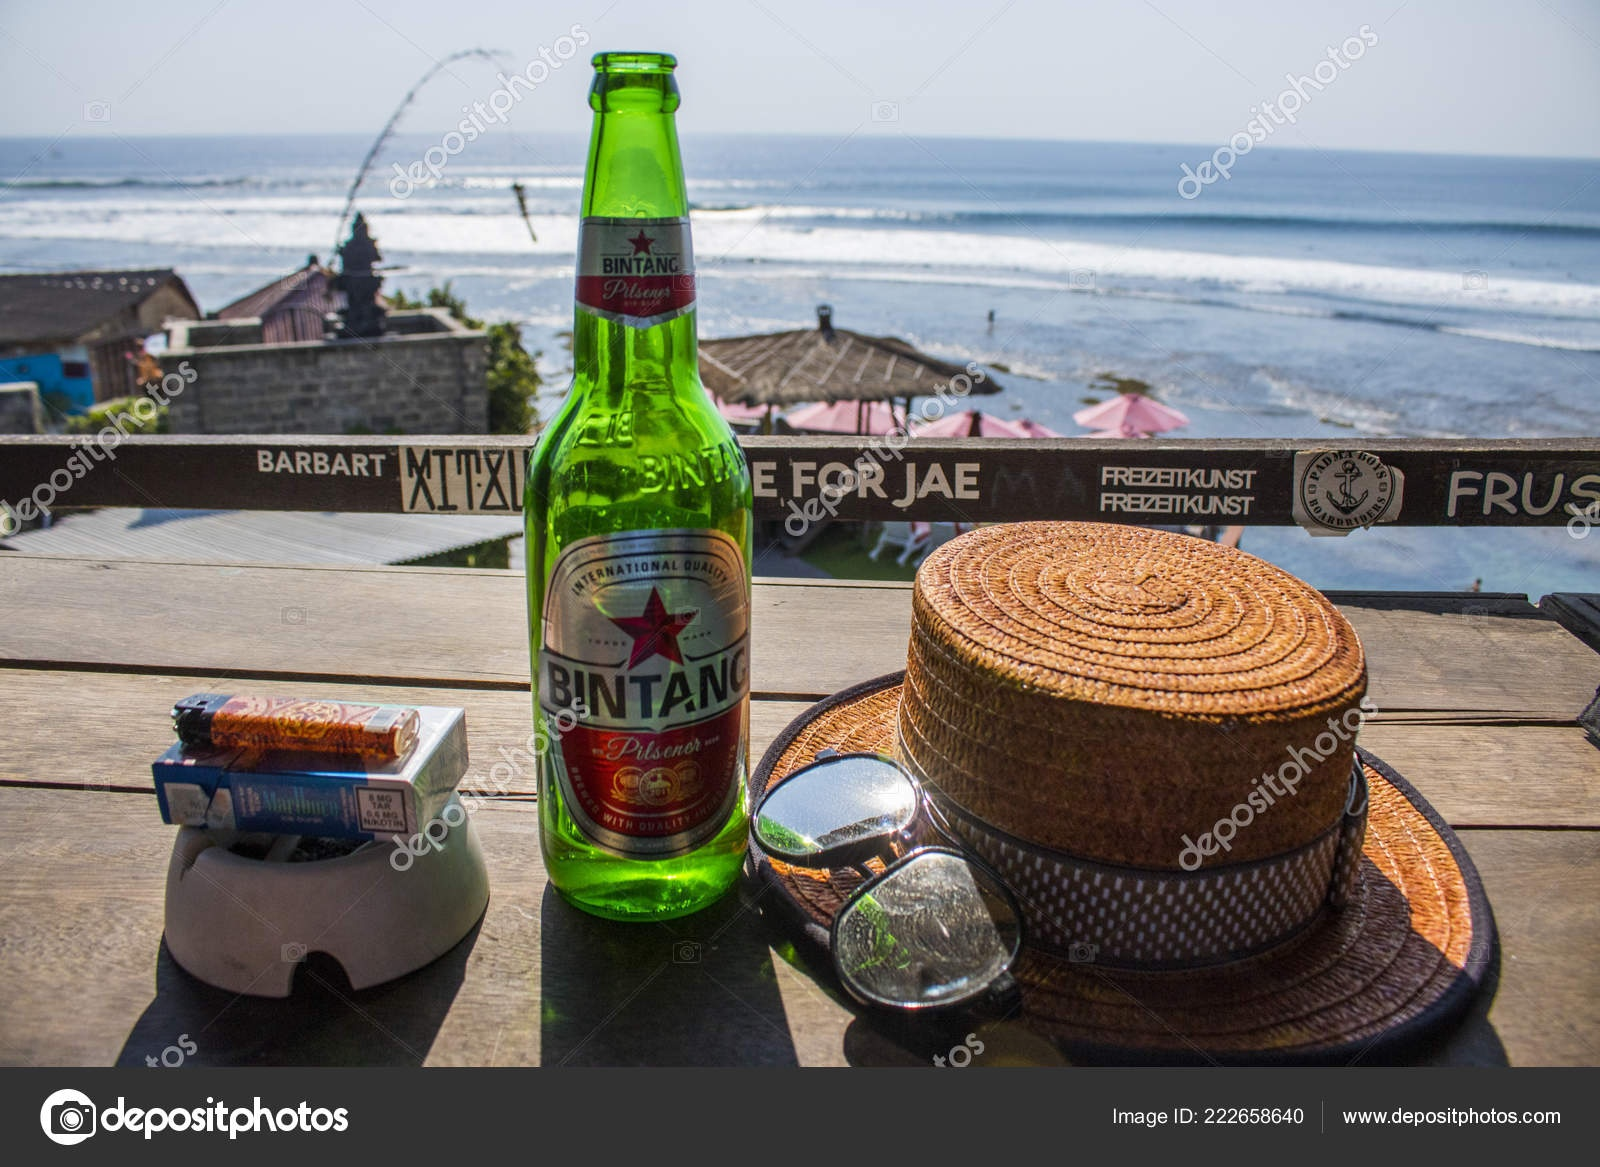beerBottle: (529, 51, 757, 918)
